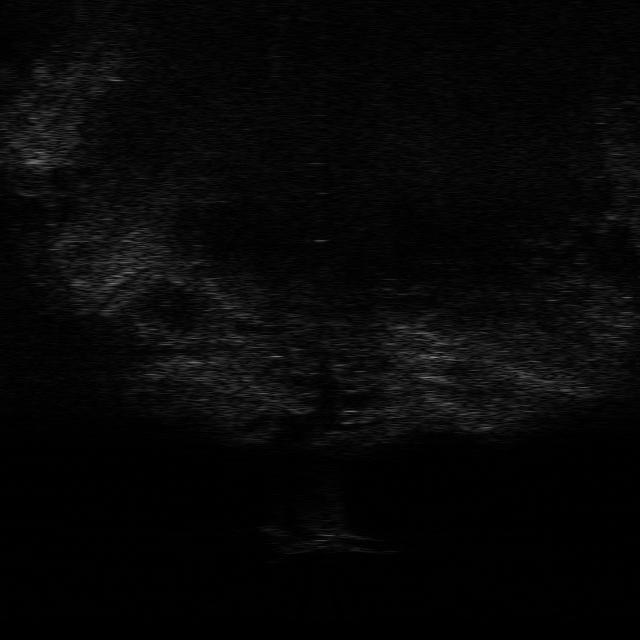plane: (259, 518, 385, 556)
